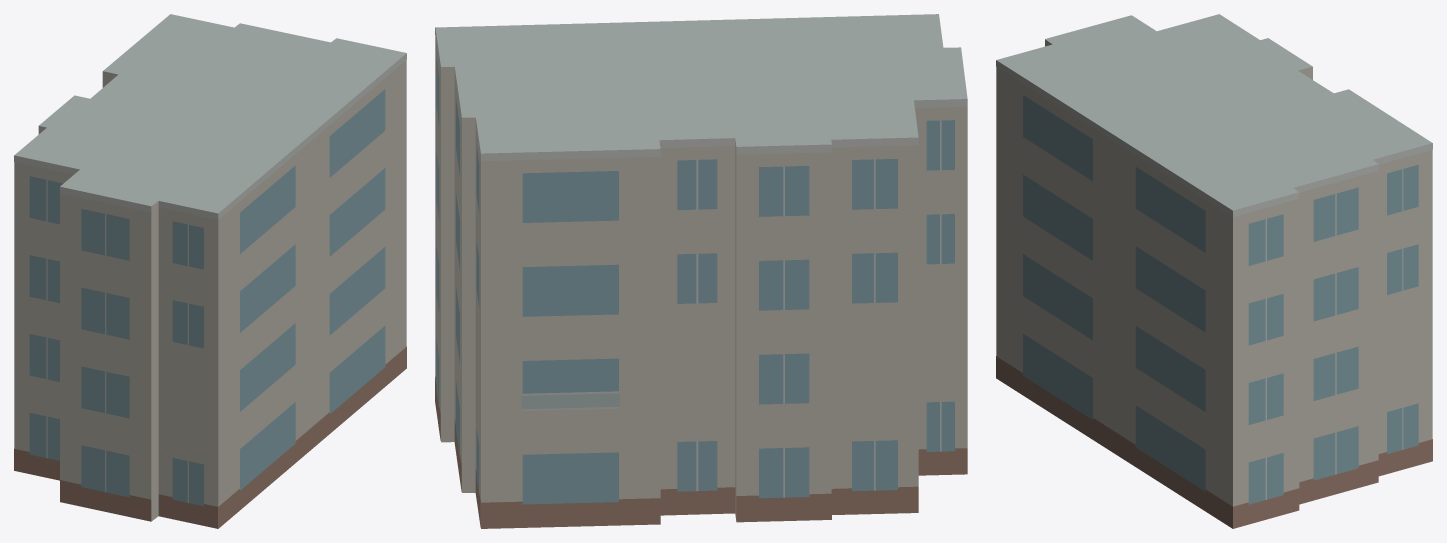
File: survey-upis-32667871.glb
3 renders of one model, left to right at view 1: azimuth 30°, elevation 25°; view 2: azimuth 150°, elevation 25°; view 3: azimuth 270°, elevation 25°, orthographic. The views are drawn at different scales.
Visible parts, largest first — view 1: survey-upis-32667871.tmp; view 2: survey-upis-32667871.tmp; view 3: survey-upis-32667871.tmp.
Part boxes in pixels (<box>): survey-upis-32667871.tmp: <box>14,14,406,528</box>; survey-upis-32667871.tmp: <box>435,14,967,528</box>; survey-upis-32667871.tmp: <box>996,14,1432,528</box>.
Bounding box in the file's own units: 15.71 × 11.85 × 14.74.
